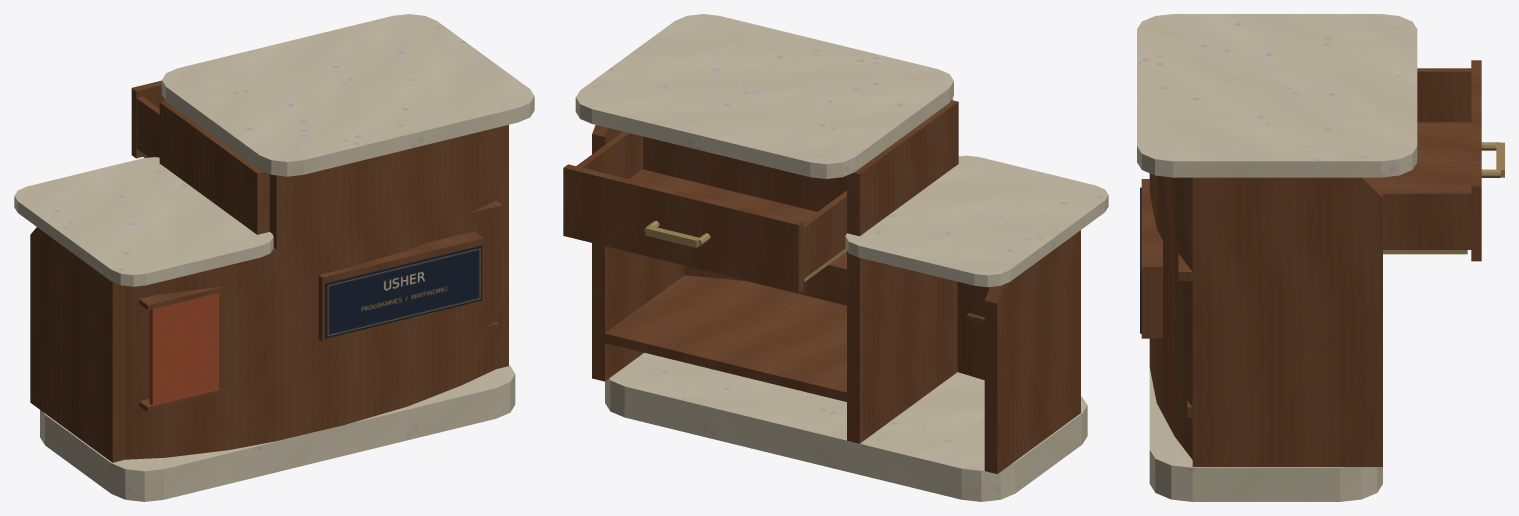
Rendered from AST-CUL-002_access.glb.
3 renders of one model, left to right at view 1: azimuth 30°, elevation 25°; view 2: azimuth 150°, elevation 25°; view 3: azimuth 270°, elevation 25°, orthographic. The views are drawn at different scales.
Visible parts, largest first — view 1: AST-CUL-002_access__AST-CUL-002__warm_walnut, AST-CUL-002_access__AST-CUL-002__warm_stone, AST-CUL-002_access__AST-CUL-002__usher_original, AST-CUL-002_access__AST-CUL-002__auditorium_amber_velvet, AST-CUL-002_access__USHER_DRAWER__warm_walnut; view 2: AST-CUL-002_access__AST-CUL-002__warm_stone, AST-CUL-002_access__AST-CUL-002__warm_walnut, AST-CUL-002_access__USHER_DRAWER__warm_walnut, AST-CUL-002_access__USHER_DRAWER__champagne_metal; view 3: AST-CUL-002_access__AST-CUL-002__warm_walnut, AST-CUL-002_access__AST-CUL-002__warm_stone, AST-CUL-002_access__USHER_DRAWER__warm_walnut, AST-CUL-002_access__USHER_DRAWER__champagne_metal.
Part boxes in pixels (x1,y1,x2,y2): AST-CUL-002_access__AST-CUL-002__warm_walnut: (30, 101, 508, 462); AST-CUL-002_access__AST-CUL-002__warm_stone: (14, 14, 534, 501); AST-CUL-002_access__AST-CUL-002__usher_original: (325, 245, 482, 338); AST-CUL-002_access__AST-CUL-002__auditorium_amber_velvet: (149, 293, 218, 405); AST-CUL-002_access__USHER_DRAWER__warm_walnut: (131, 80, 165, 158); AST-CUL-002_access__AST-CUL-002__warm_stone: (575, 14, 1108, 501); AST-CUL-002_access__AST-CUL-002__warm_walnut: (592, 98, 1080, 473); AST-CUL-002_access__USHER_DRAWER__warm_walnut: (563, 131, 846, 293); AST-CUL-002_access__USHER_DRAWER__champagne_metal: (644, 220, 846, 282); AST-CUL-002_access__AST-CUL-002__warm_walnut: (1141, 173, 1382, 466); AST-CUL-002_access__AST-CUL-002__warm_stone: (1137, 14, 1417, 501); AST-CUL-002_access__USHER_DRAWER__warm_walnut: (1369, 60, 1481, 261); AST-CUL-002_access__USHER_DRAWER__champagne_metal: (1383, 142, 1504, 254).
Bounding box in the file's own units: 1.51 × 1.07 × 1.02.
Materials: 5 (5 with a texture image).
